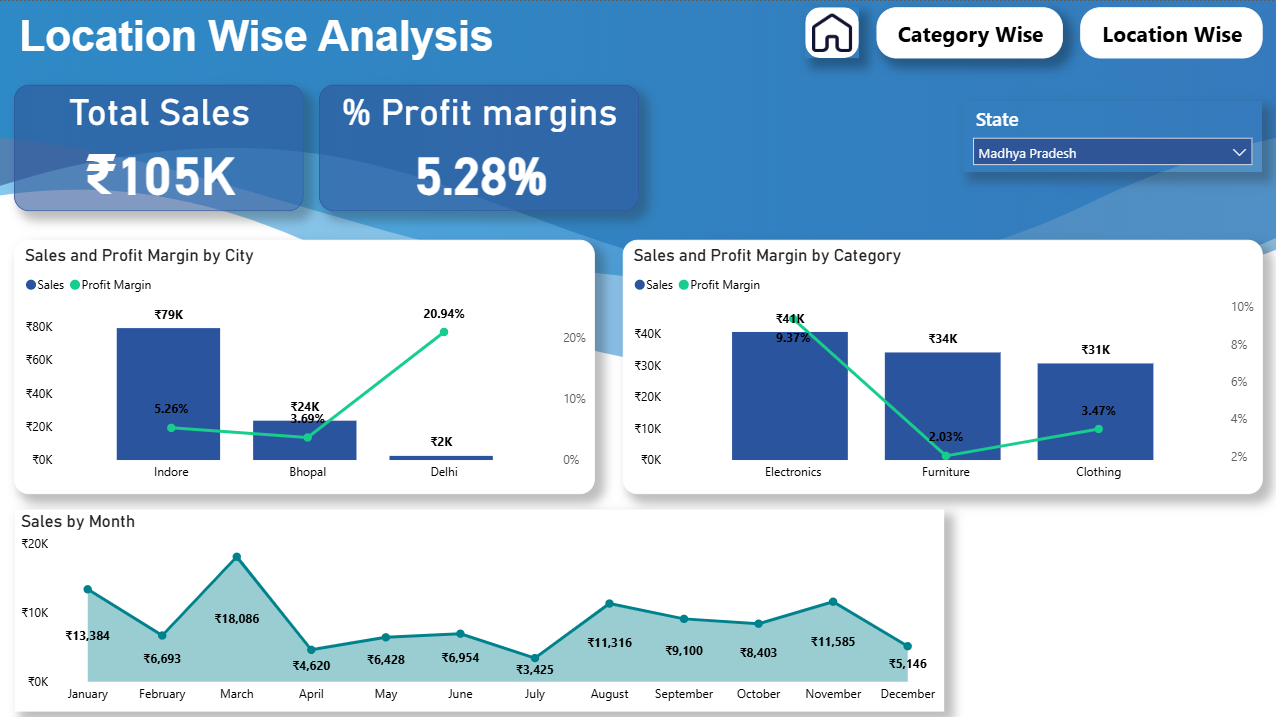

This screenshot's page, from the dashboard's own definition file:
{"tool":"powerbi","page":{"name":"State wise","canvas":[1280,720],"ordinal":2},"visuals":[{"type":"textbox","box":[15.1,6.9,608.4,63.2],"z":0},{"type":"card","title":"Total Sales","fields":{"Values":["Sum(Order Details.Amount)"]},"box":[15.1,83.8,289.8,126.4],"z":1000},{"type":"slicer","fields":{"Values":["List of Orders.State"]},"box":[964.1,100.3,299.4,71.4],"z":2000},{"type":"card","title":"% Profit margins","fields":{"Values":["Order Details.profit margin"]},"box":[320,83.8,320,126.4],"z":3000},{"type":"lineClusteredColumnComboChart","fields":{"Category":["List of Orders.City"],"Y":["Sum(Order Details.Amount)"],"Y2":["Order Details.profit margin"]},"box":[15.1,239,580.9,254.1],"z":4000},{"type":"lineClusteredColumnComboChart","fields":{"Category":["Order Details.Category"],"Y":["Sum(Order Details.Amount)"],"Y2":["Order Details.profit margin"]},"box":[623.5,239,640,254.1],"z":5000},{"type":"stackedAreaChart","fields":{"Category":["List of Orders.Order Date.Variation.Date Hierarchy.Month"],"Y":["Sum(Order Details.Amount)"]},"box":[15.7,508.9,928.6,201.4],"z":6000},{"type":"actionButton","title":"Over All","box":[877.6,6.9,186.8,50.8],"z":7000},{"type":"actionButton","title":"Over All","box":[1080.9,6.9,182.7,50.8],"z":8000},{"type":"actionButton","box":[806.2,6.9,53.6,50.8],"z":9000}]}

Visuals, with their boxes in screenshot pixels (x1, y1, x2, y2), scaled from the page's 1280x720 canvas onto the 1276x717 screenshot:
textbox: region(15, 7, 622, 70)
"Total Sales" card: region(15, 83, 304, 209)
slicer - List of Orders.State: region(961, 100, 1260, 171)
"% Profit margins" card: region(319, 83, 638, 209)
lineClusteredColumnComboChart - List of Orders.City x Sum(Order Details.Amount): region(15, 238, 594, 491)
lineClusteredColumnComboChart - Order Details.Category x Sum(Order Details.Amount): region(622, 238, 1260, 491)
stackedAreaChart - List of Orders.Order Date.Variation.Date Hierarchy.Month x Sum(Order Details.Amount): region(16, 507, 941, 707)
"Over All" actionButton: region(875, 7, 1061, 57)
"Over All" actionButton: region(1078, 7, 1260, 57)
actionButton: region(804, 7, 857, 57)
